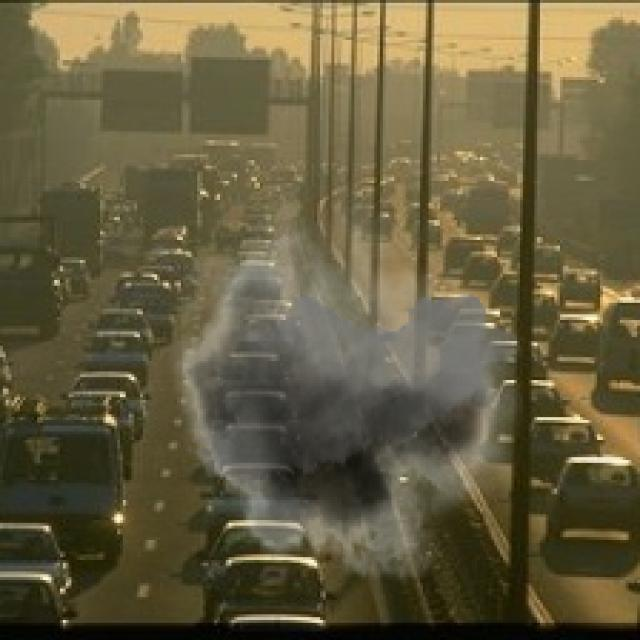Smoke: (154, 183, 523, 600)
